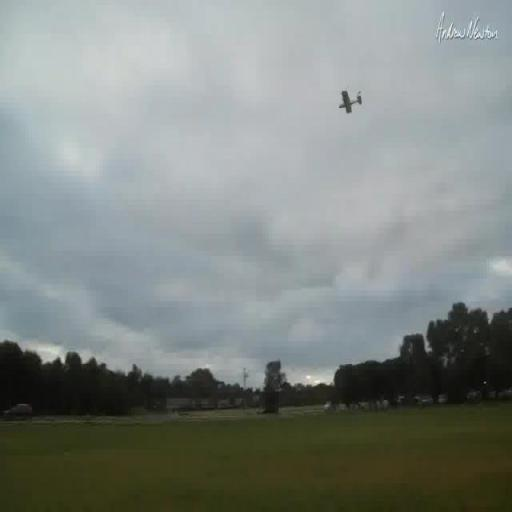uav: (329, 85, 370, 123)
